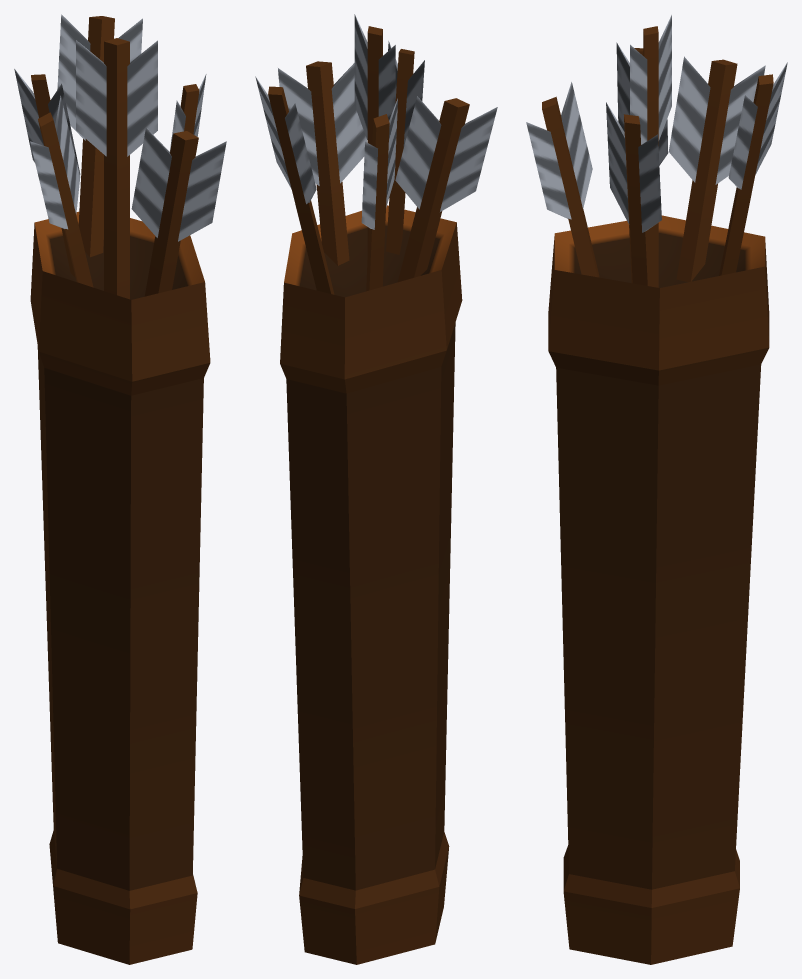
The model's file is wpn-quiver.glb.
3 renders of one model, left to right at view 1: azimuth 30°, elevation 25°; view 2: azimuth 150°, elevation 25°; view 3: azimuth 270°, elevation 25°, orthographic.
Visible parts, largest first — view 1: ArrowQuiverBasic; view 2: ArrowQuiverBasic; view 3: ArrowQuiverBasic.
Part boxes in pixels (<box>): ArrowQuiverBasic: <box>14,14,226,964</box>; ArrowQuiverBasic: <box>255,14,497,964</box>; ArrowQuiverBasic: <box>526,15,787,964</box>.
Size of the model in its own units: 0.1857 by 0.8011 by 0.2106.
Materials: 1 (1 with a texture image).
